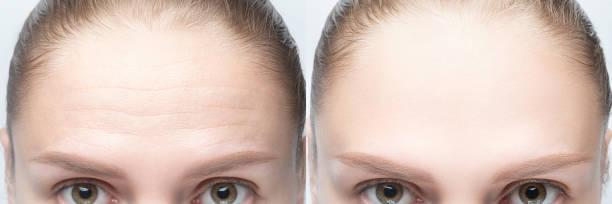Dry-Skin: (58, 51, 249, 156)
